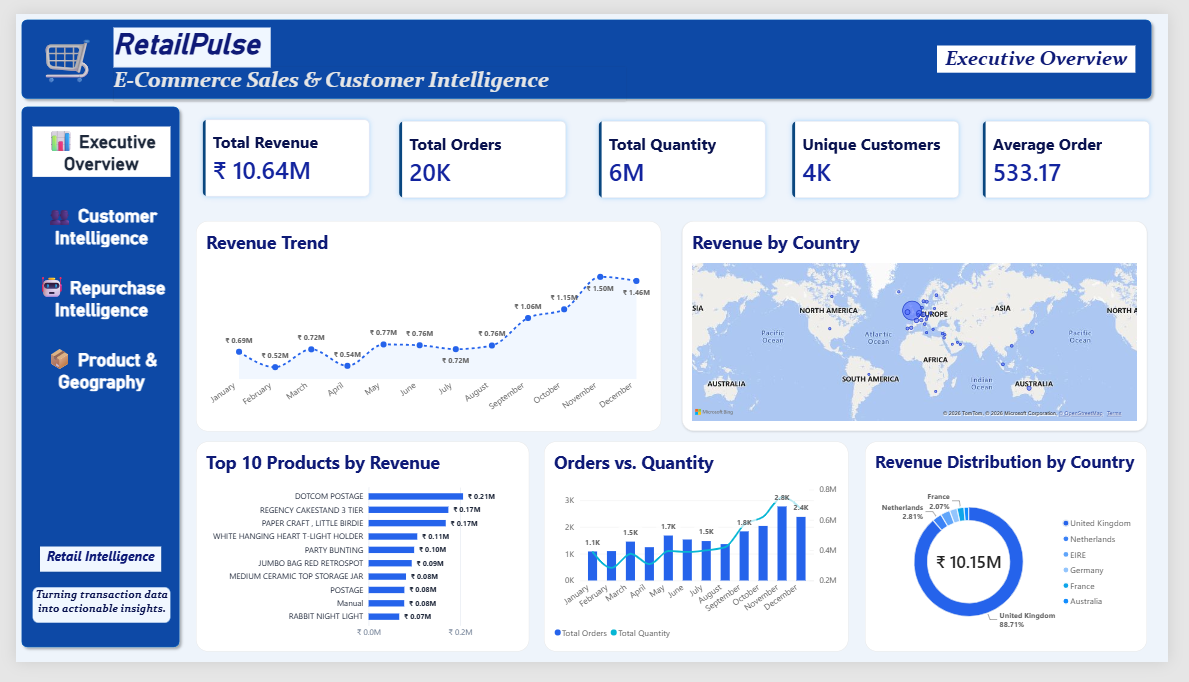

The dashboard page shown, as its layout file describes it:
{"tool":"powerbi","page":{"name":"Page 1","canvas":[1920,1080],"ordinal":0},"visuals":[{"type":"cardVisual","fields":{"Data":["retail_clean.Total Orders"]},"box":[627.8,166.7,300,150],"z":0},{"type":"cardVisual","fields":{"Data":["retail_clean.Total Quantity"]},"box":[959.1,167,300.6,150],"z":1000},{"type":"cardVisual","fields":{"Data":["retail_clean.Unique Customers"]},"box":[1283.6,167,300.6,150],"z":2000},{"type":"cardVisual","fields":{"Data":["retail_clean.Average Order Value"]},"box":[1600.9,167,300.6,150],"z":3000},{"type":"shape","box":[0,0,1901.5,150.4],"z":4000},{"type":"textbox","title":"RetailPulse","box":[163.3,21.5,262.1,66.6],"z":5000},{"type":"textbox","title":"E-Commerce Sales & Customer Intelligence","box":[162.5,87.5,854.2,57.3],"z":6000},{"type":"textbox","title":"Executive Overview","box":[1534.1,51.6,330.9,45.1],"z":7000},{"type":"textbox","title":"🛒","box":[15,22.5,140,127.5],"z":8000},{"type":"shape","box":[0,144,281.5,919.6],"z":9000},{"type":"lineChart","title":"Revenue Trend","fields":{"Category":["retail_clean.MonthName"],"Y":["retail_clean.Total Revenue"]},"box":[300.6,346,775.4,350.7],"z":10000},{"type":"map","title":"Revenue by Country","fields":{"Category":["retail_clean.Country"],"Size":["retail_clean.Total Revenue"]},"box":[1109.5,346,775,350],"z":11000},{"type":"clusteredBarChart","title":"Top 10 Products by Revenue","fields":{"Category":["retail_clean.Description"],"Y":["retail_clean.Total Revenue"]},"box":[300,712.5,555,350],"z":12000},{"type":"lineStackedColumnComboChart","title":"Orders vs. Quantity","fields":{"Category":["retail_clean.MonthName"],"Y":["retail_clean.Total Orders"],"Y2":["retail_clean.Total Quantity"]},"box":[880,712.5,507.5,350],"z":13000},{"type":"donutChart","title":"Revenue Distribution by Country","fields":{"Category":["retail_clean.Country"],"Y":["retail_clean.Total Revenue"]},"box":[1415,712.5,470,350],"z":14000},{"type":"textbox","title":"👥 Customer Intelligence","box":[27.5,310,230.6,106.2],"z":15000},{"type":"textbox","title":"📊 Executive Overview ","box":[27.9,186.9,229.9,107.4],"z":16000},{"type":"textbox","title":"🤖 Repurchase Intelligence","box":[27.5,430,230.6,110.6],"z":17000},{"type":"textbox","title":"📦 Product & Geography","box":[27.5,550,230.6,111.2],"z":18000},{"type":"cardVisual","fields":{"Data":["retail_clean.Total Revenue"]},"box":[300.8,165.4,300.6,150],"z":19000},{"type":"textbox","title":"Retail Intelligence","box":[40.8,887.4,202.2,42.2],"z":20000},{"type":"textbox","title":"Turning transaction data into actionable insights.","box":[27.9,954,229.9,60.2],"z":21000}]}

Visuals, with their boxes in screenshot pixels (x1, y1, x2, y2), scaled from the page's 1920x1080 canvas onto the 1189x682 screenshot:
cardVisual - retail_clean.Total Orders: BBox(389, 105, 575, 200)
cardVisual - retail_clean.Total Quantity: BBox(594, 105, 780, 200)
cardVisual - retail_clean.Unique Customers: BBox(795, 105, 981, 200)
cardVisual - retail_clean.Average Order Value: BBox(991, 105, 1178, 200)
shape: BBox(0, 0, 1178, 95)
"RetailPulse" textbox: BBox(101, 14, 263, 56)
"E-Commerce Sales & Customer Intelligence" textbox: BBox(101, 55, 630, 91)
"Executive Overview" textbox: BBox(950, 33, 1155, 61)
"🛒" textbox: BBox(9, 14, 96, 95)
shape: BBox(0, 91, 174, 672)
"Revenue Trend" lineChart: BBox(186, 218, 666, 440)
"Revenue by Country" map: BBox(687, 218, 1167, 440)
"Top 10 Products by Revenue" clusteredBarChart: BBox(186, 450, 529, 671)
"Orders vs. Quantity" lineStackedColumnComboChart: BBox(545, 450, 859, 671)
"Revenue Distribution by Country" donutChart: BBox(876, 450, 1167, 671)
"👥 Customer Intelligence" textbox: BBox(17, 196, 160, 263)
"📊 Executive Overview " textbox: BBox(17, 118, 160, 186)
"🤖 Repurchase Intelligence" textbox: BBox(17, 272, 160, 341)
"📦 Product & Geography" textbox: BBox(17, 347, 160, 418)
cardVisual - retail_clean.Total Revenue: BBox(186, 104, 372, 199)
"Retail Intelligence" textbox: BBox(25, 560, 150, 587)
"Turning transaction data into actionable insights." textbox: BBox(17, 602, 160, 640)
